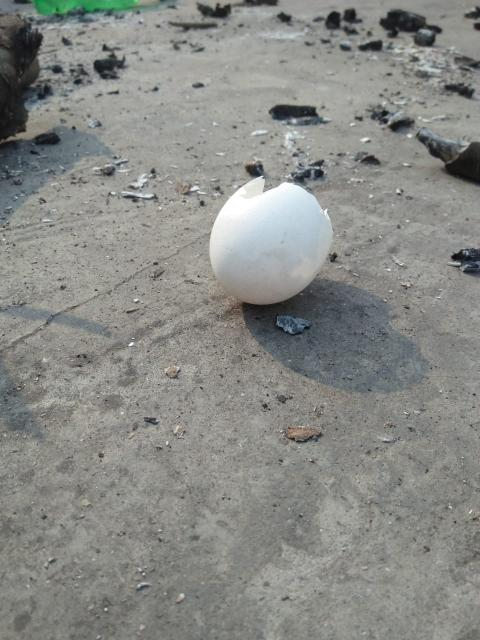Roto: (208, 175, 333, 306)
